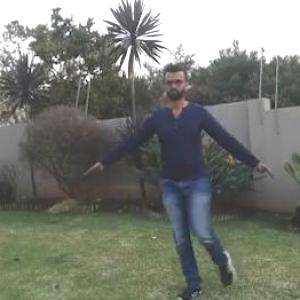land: (114, 78, 256, 252)
